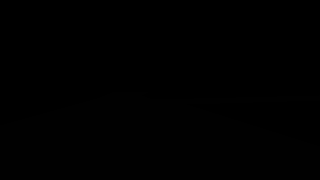turn_right: (205, 52, 223, 72)
